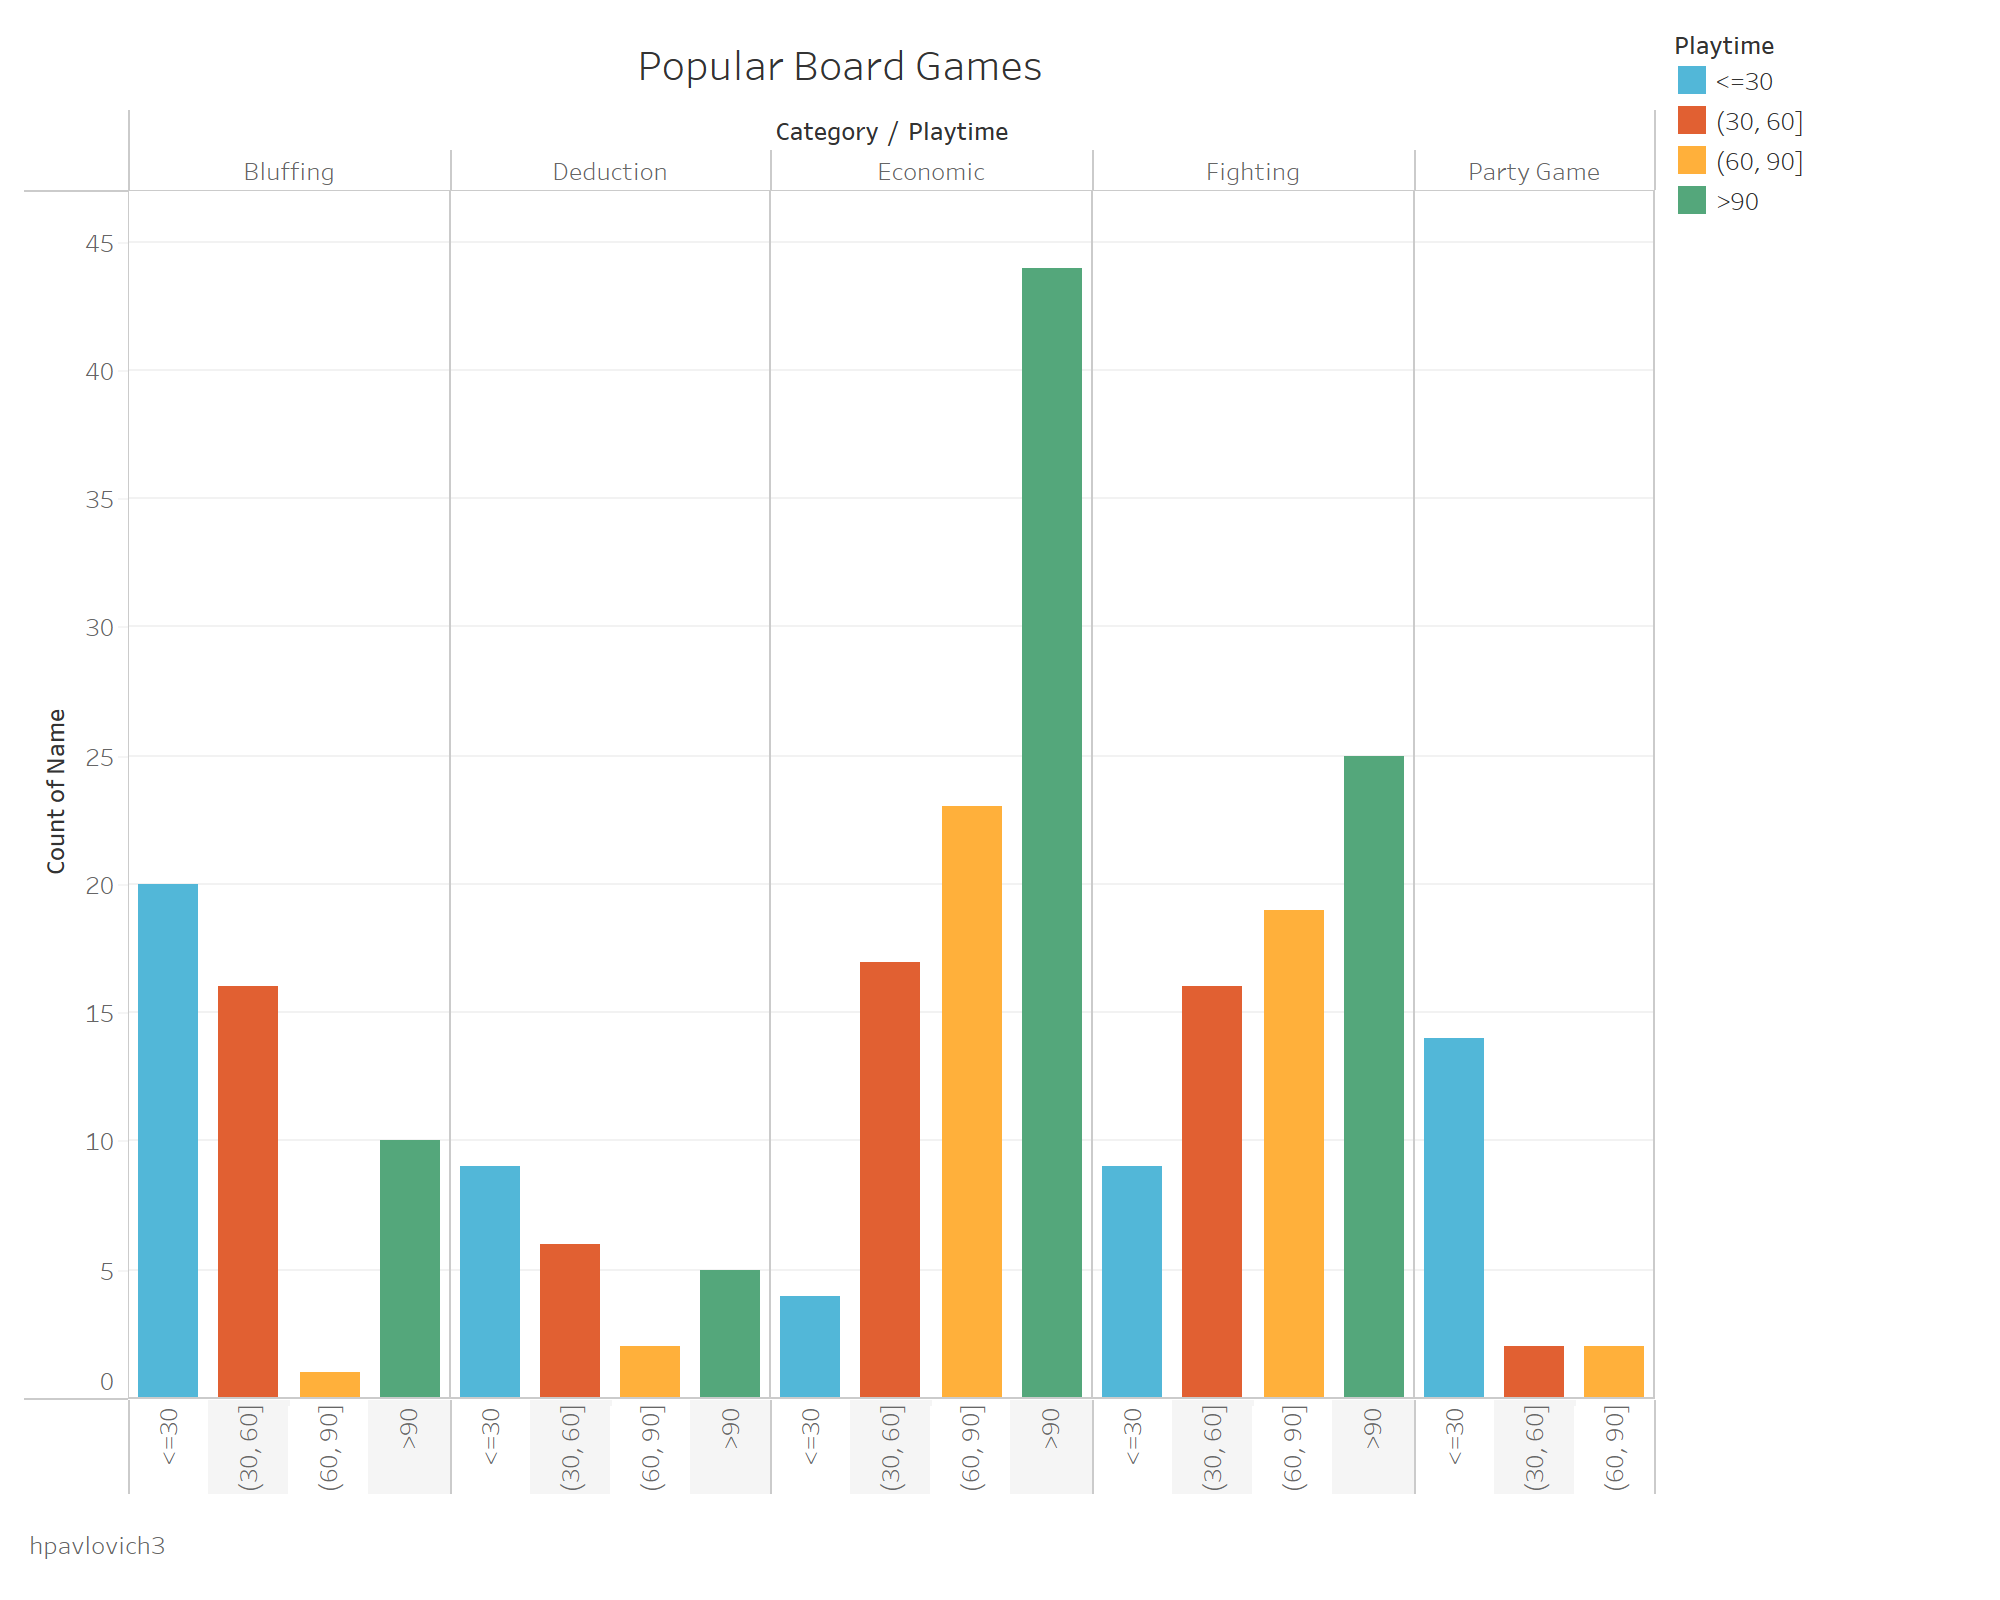

The page's visual inventory and layout, read from the dashboard file:
{"tool":"tableau","page":{"name":"Dashboard 1","canvas":[1000,800],"ordinal":0},"visuals":[{"type":"worksheet","title":"Q1.2","mark":"Automatic","rows":["name"],"cols":["category","playtime"],"box":[8,8,824,744]},{"type":"legend","title":"Q1.2","param":"[federated.1j8dc6w0zgqe531h6y80n04bqkz1].[none:playtime:nk]","box":[832,8,160,106]},{"type":"text","box":[8,752,984,40]}]}

Visuals, with their boxes in screenshot pixels (x1, y1, x2, y2), scaled from the page's 1000x800 canvas onto the 2000x1600 screenshot:
"Q1.2" worksheet: {"x1": 16, "y1": 16, "x2": 1664, "y2": 1504}
"Q1.2" legend: {"x1": 1664, "y1": 16, "x2": 1984, "y2": 228}
text: {"x1": 16, "y1": 1504, "x2": 1984, "y2": 1584}
